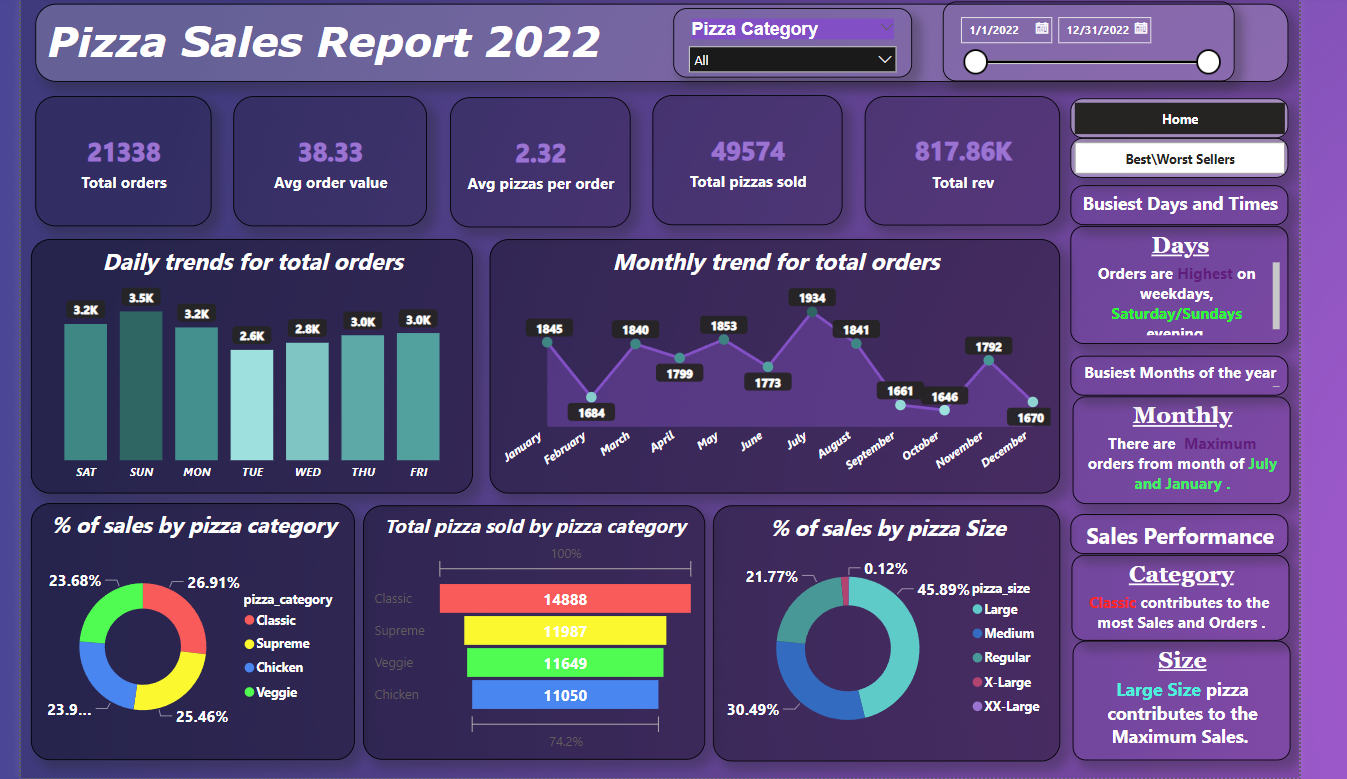

What the dashboard file says about the page in this screenshot:
{"tool":"powerbi","page":{"name":"Home","canvas":[1338,819],"ordinal":0},"visuals":[{"type":"card","fields":{"Values":["pizza_sales_excel_file.avg pizzas per order"]},"box":[448.6,106.4,188.8,136.2],"z":0},{"type":"card","fields":{"Values":["pizza_sales_excel_file.total orders"]},"box":[14.9,105.3,184.3,136.2],"z":1000},{"type":"card","fields":{"Values":["pizza_sales_excel_file.Total rev"]},"box":[883.6,105.3,204.9,135.1],"z":2000},{"type":"card","fields":{"Values":["pizza_sales_excel_file.total pizzas sold"]},"box":[661.5,104.2,199.1,136.2],"z":3000},{"type":"card","fields":{"Values":["pizza_sales_excel_file.Avg order value"]},"box":[222,105.3,202.6,136.2],"z":4000},{"type":"textbox","box":[15.2,8.2,1311.5,81.9],"z":5000},{"type":"clusteredColumnChart","title":"Daily trends for total orders","fields":{"Category":["pizza_sales_excel_file.order day"],"Y":["pizza_sales_excel_file.total orders"]},"box":[10.3,254.1,462.4,266.7],"z":6000},{"type":"areaChart","title":"Monthly trend for total orders ","fields":{"Category":["pizza_sales_excel_file.Month Name"],"Y":["pizza_sales_excel_file.total orders"]},"box":[491,254.1,597.4,266.7],"z":7000},{"type":"donutChart","title":"% of sales by pizza category","fields":{"Y":["pizza_sales_excel_file.Total rev"],"Category":["pizza_sales_excel_file.pizza_category"]},"box":[10.3,531.1,338.8,269],"z":8000},{"type":"donutChart","title":"% of sales by pizza Size","fields":{"Y":["pizza_sales_excel_file.Total rev"],"Category":["pizza_sales_excel_file.pizza_size"]},"box":[724.5,533.3,364,267.8],"z":9000},{"type":"funnel","title":"Total pizza sold by pizza category","fields":{"Category":["pizza_sales_excel_file.pizza_category"],"Y":["pizza_sales_excel_file.total pizzas sold"]},"box":[358.2,533.3,358.2,266.7],"z":10000},{"type":"textbox","title":"Busiest Days and Times","box":[1098.6,197.7,228.1,42.1],"z":11000},{"type":"textbox","title":"Days ","box":[1098.5,241,228.3,124],"z":12000},{"type":"textbox","title":"Monthly","box":[1100.9,418.8,228.1,112.3],"z":13000},{"type":"textbox","title":"Busiest Months of the year","box":[1098.6,376.7,228.1,42.1],"z":14000},{"type":"textbox","title":"Sales Performance","box":[1098.6,542.9,228.1,42.1],"z":15000},{"type":"textbox","title":"Category","box":[1099.8,585,228.1,90.1],"z":16000},{"type":"textbox","title":"Size","box":[1100.9,675.1,228.1,125.2],"z":17000},{"type":"slicer","fields":{"Values":["pizza_sales_excel_file.pizza_category"]},"box":[682.9,12.7,249.9,72.5],"z":18000},{"type":"slicer","fields":{"Values":["pizza_sales_excel_file.order_date"]},"box":[965,5.8,305.2,84.1],"z":19000},{"type":"pageNavigator","box":[1098.5,106.6,228.3,41.7],"z":19001},{"type":"pageNavigator","box":[1098.5,148.3,228.3,41.7],"z":19002}]}

Visuals, with their boxes on the page's 1338x819 design canvas (x1, y1, x2, y2). These are canvas units, not pixel positions in the 1347x779 screenshot, which may show the page scaled, cropped or inside an application window:
card - pizza_sales_excel_file.avg pizzas per order: <region>449, 106, 637, 243</region>
card - pizza_sales_excel_file.total orders: <region>15, 105, 199, 242</region>
card - pizza_sales_excel_file.Total rev: <region>884, 105, 1088, 240</region>
card - pizza_sales_excel_file.total pizzas sold: <region>662, 104, 861, 240</region>
card - pizza_sales_excel_file.Avg order value: <region>222, 105, 425, 242</region>
textbox: <region>15, 8, 1327, 90</region>
"Daily trends for total orders" clusteredColumnChart: <region>10, 254, 473, 521</region>
"Monthly trend for total orders " areaChart: <region>491, 254, 1088, 521</region>
"% of sales by pizza category" donutChart: <region>10, 531, 349, 800</region>
"% of sales by pizza Size" donutChart: <region>724, 533, 1088, 801</region>
"Total pizza sold by pizza category" funnel: <region>358, 533, 716, 800</region>
"Busiest Days and Times" textbox: <region>1099, 198, 1327, 240</region>
"Days " textbox: <region>1098, 241, 1327, 365</region>
"Monthly" textbox: <region>1101, 419, 1329, 531</region>
"Busiest Months of the year" textbox: <region>1099, 377, 1327, 419</region>
"Sales Performance" textbox: <region>1099, 543, 1327, 585</region>
"Category" textbox: <region>1100, 585, 1328, 675</region>
"Size" textbox: <region>1101, 675, 1329, 800</region>
slicer - pizza_sales_excel_file.pizza_category: <region>683, 13, 933, 85</region>
slicer - pizza_sales_excel_file.order_date: <region>965, 6, 1270, 90</region>
pageNavigator: <region>1098, 107, 1327, 148</region>
pageNavigator: <region>1098, 148, 1327, 190</region>
